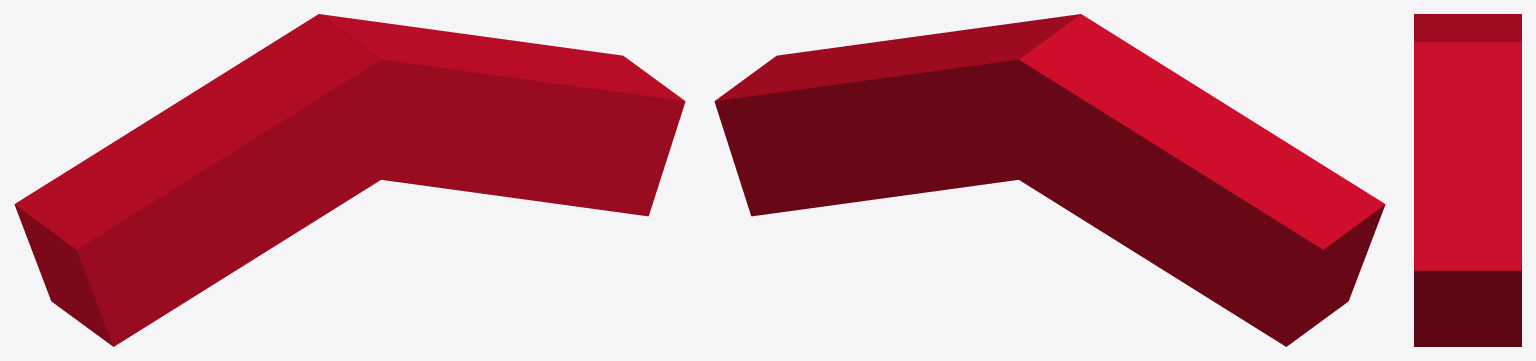
Rendered from slope20.dae.
3 views of the same model, side by side, from view 1: azimuth 30°, elevation 25°; view 2: azimuth 150°, elevation 25°; view 3: azimuth 270°, elevation 25° (orthographic). The views are drawn at different scales.
Parts seen in each view (by area): view 1: Cube_019, Cube_018; view 2: Cube_019, Cube_018; view 3: Cube_018, Cube_019.
Part boxes in pixels (box(x1,y1,x2,y2)): Cube_019: box(14, 14, 380, 346); Cube_018: box(319, 14, 685, 216); Cube_019: box(982, 14, 1385, 346); Cube_018: box(714, 14, 1080, 216); Cube_018: box(1414, 42, 1521, 346); Cube_019: box(1414, 14, 1521, 42).
Size of the model in its own units: 11.28 by 2 by 3.93.
